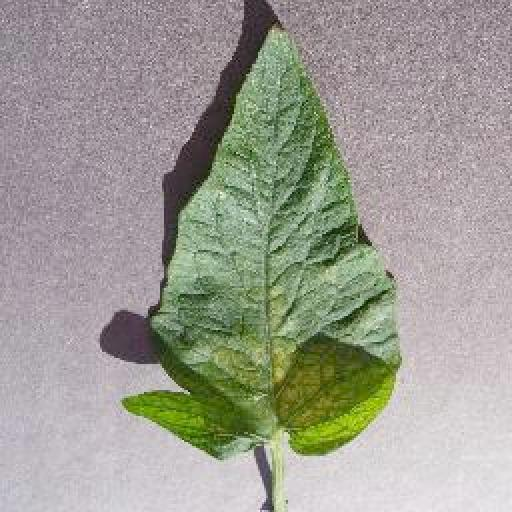disease_tomato: (119, 17, 404, 459)
